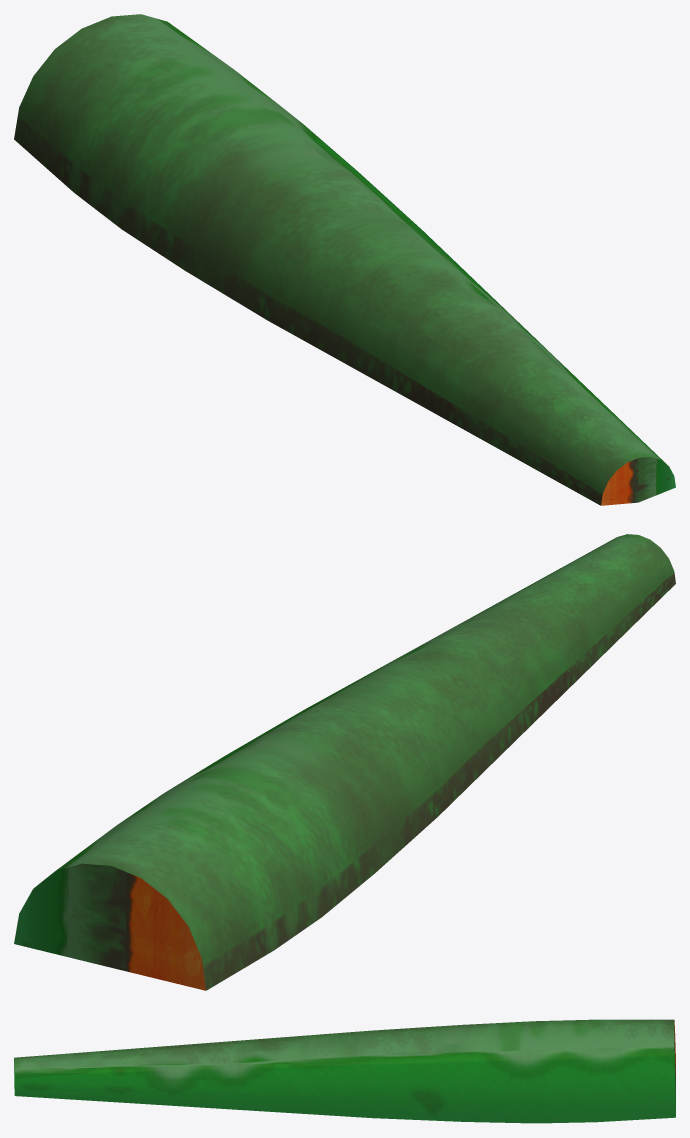
The model's file is CarrotHalf.fbx.
3 renders of one model, top to bottom at view 1: azimuth 30°, elevation 25°; view 2: azimuth 150°, elevation 25°; view 3: azimuth 270°, elevation 25°, orthographic. The views are drawn at different scales.
Parts seen in each view (by area): view 1: pCylinder1; view 2: pCylinder1; view 3: pCylinder1.
Part boxes in pixels (left/top/right/bottom): pCylinder1: left=14, top=14, right=675, bottom=505; pCylinder1: left=14, top=534, right=675, bottom=990; pCylinder1: left=14, top=1019, right=675, bottom=1123.
Size of the model in its own units: 3.48 by 1.79 by 15.89.
